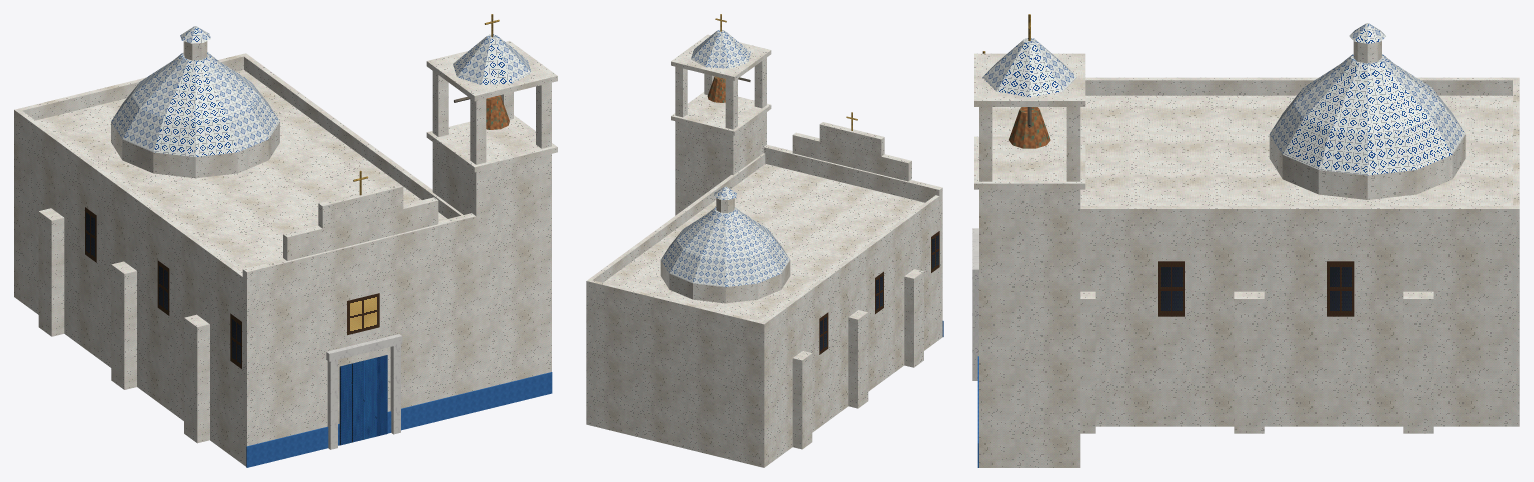
Rendered from iglesia_blanca.obj.
3 renders of one model, left to right at view 1: azimuth 30°, elevation 25°; view 2: azimuth 150°, elevation 25°; view 3: azimuth 270°, elevation 25°, orthographic. The views are drawn at different scales.
Visible parts, largest first — view 1: iglesia_blanca; view 2: iglesia_blanca; view 3: iglesia_blanca.
Part boxes in pixels (bbox=[...]): iglesia_blanca: bbox=[14, 14, 557, 467]; iglesia_blanca: bbox=[586, 14, 943, 467]; iglesia_blanca: bbox=[972, 14, 1519, 467].
Bounding box in the file's own units: 12.75 × 14.1 × 16.2.
10 materials, 10 textured.
